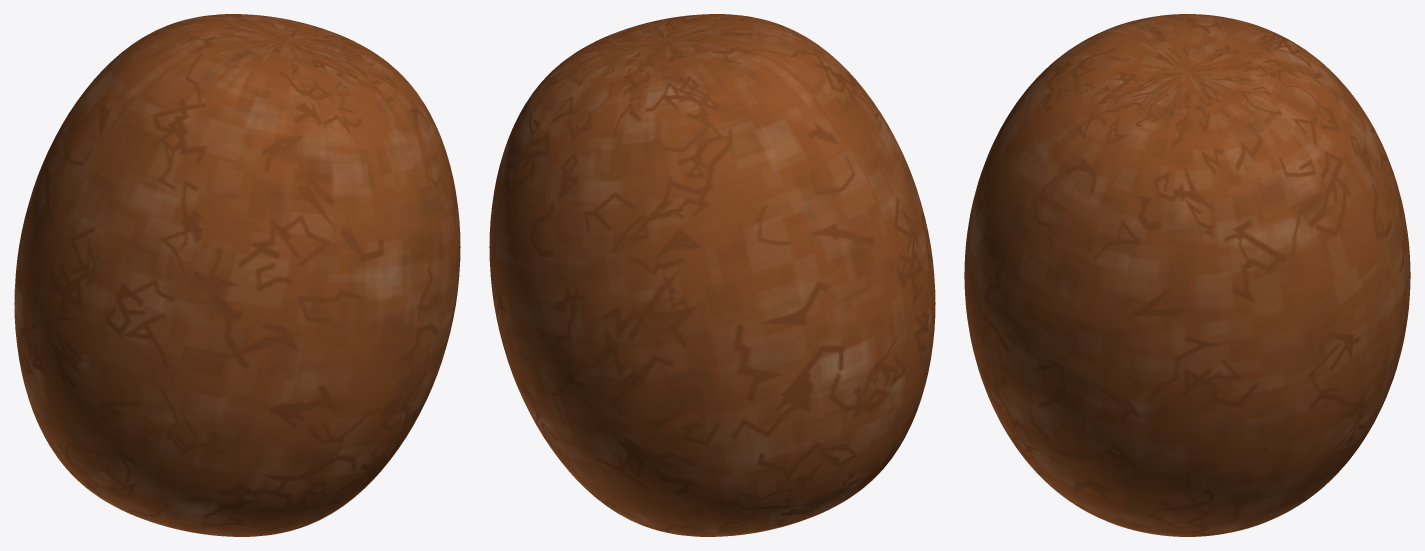
The model's file is date.glb.
3 views of the same model, side by side, from view 1: azimuth 30°, elevation 25°; view 2: azimuth 150°, elevation 25°; view 3: azimuth 270°, elevation 25° (orthographic).
Bounding box in the file's own units: 0.1292 × 0.1493 × 0.127.
Materials: 1 (1 with a texture image).
